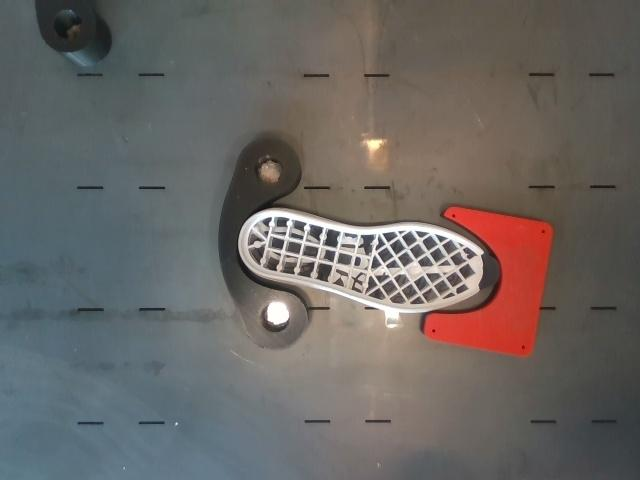shoes: (239, 211, 499, 310)
